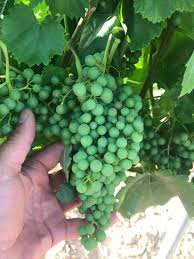Green grapes: (60, 62, 141, 251), (1, 60, 68, 149)
